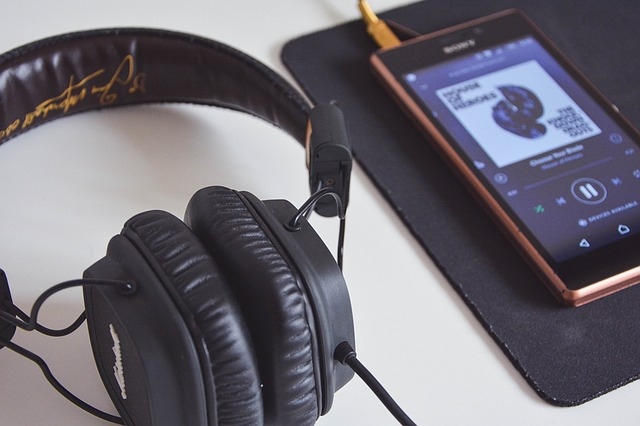headphones: (1, 26, 357, 426)
